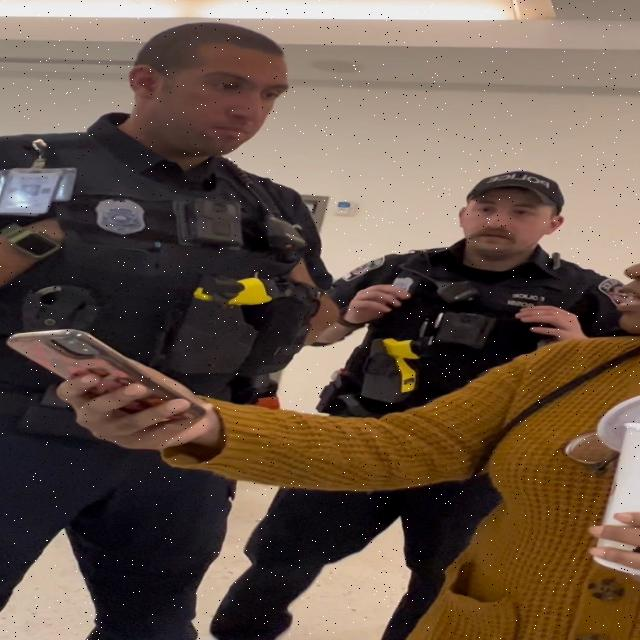police: (0, 0, 290, 640), (295, 161, 640, 435)
